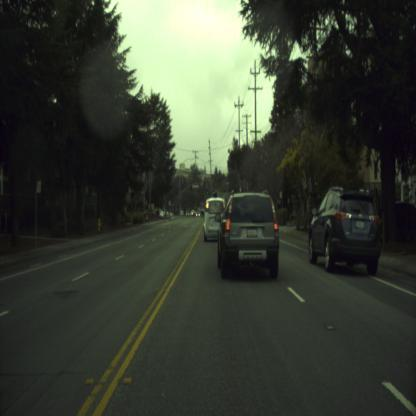Green: (223, 198, 225, 206), (206, 188, 208, 193), (212, 188, 214, 193)
